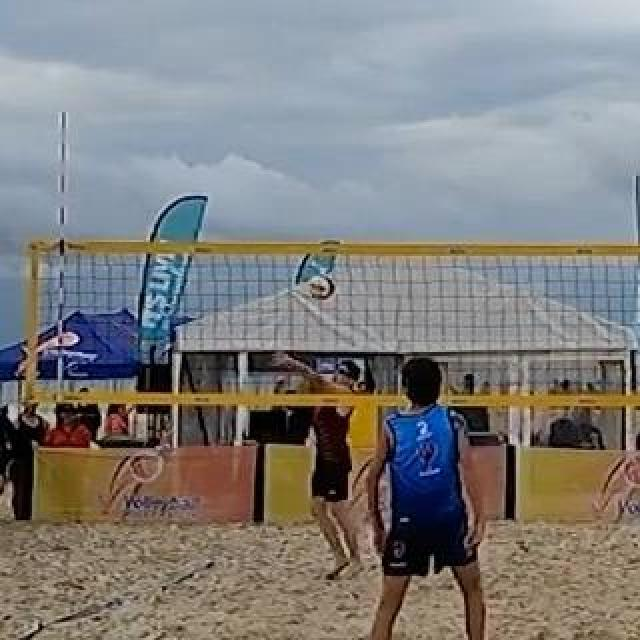volleyball: (311, 276, 337, 300)
